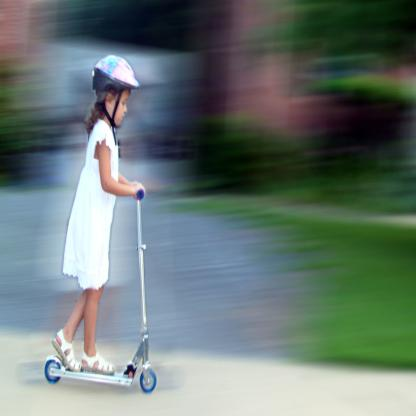Helmet: (90, 53, 136, 128)
